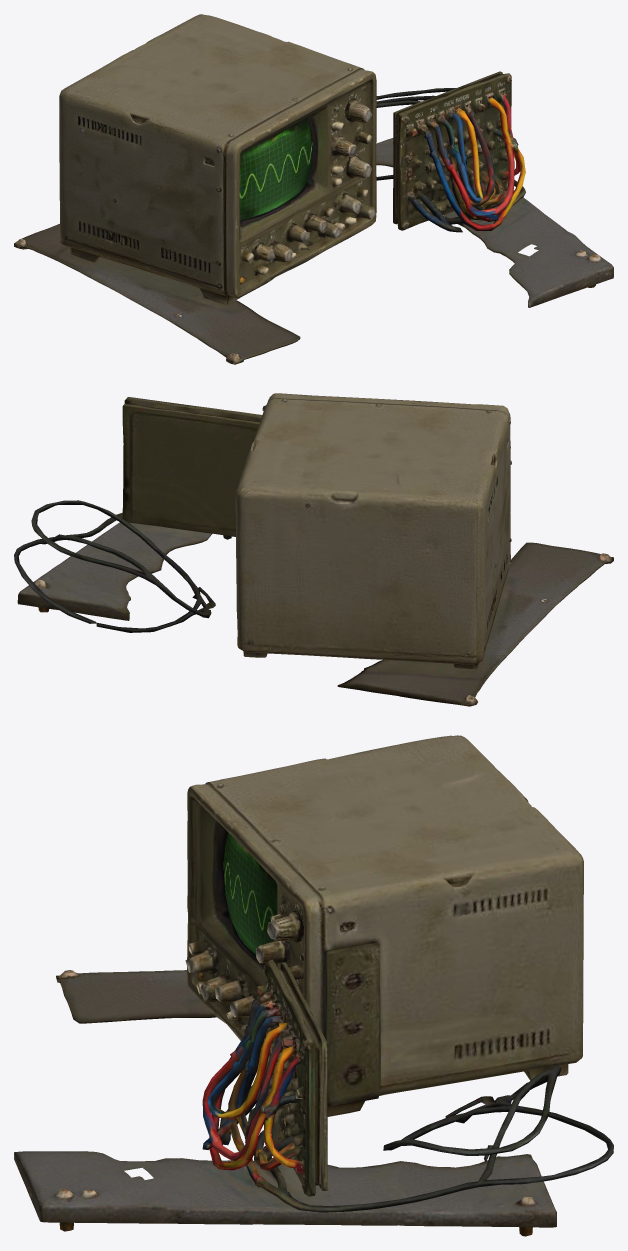
The model's file is prop_s2_oscilloscope_station.glb.
3 renders of one model, top to bottom at view 1: azimuth 30°, elevation 25°; view 2: azimuth 150°, elevation 25°; view 3: azimuth 270°, elevation 25°, orthographic. The views are drawn at different scales.
Visible parts, largest first — view 1: tripo_node_72c924b8-5213-47a4-a946-197d4e1be700; view 2: tripo_node_72c924b8-5213-47a4-a946-197d4e1be700; view 3: tripo_node_72c924b8-5213-47a4-a946-197d4e1be700.
Part boxes in pixels (x1,y1,x2,y2): tripo_node_72c924b8-5213-47a4-a946-197d4e1be700: [14, 14, 613, 364]; tripo_node_72c924b8-5213-47a4-a946-197d4e1be700: [14, 393, 613, 706]; tripo_node_72c924b8-5213-47a4-a946-197d4e1be700: [14, 735, 613, 1236].
Size of the model in its own units: 0.9144 by 0.3672 by 0.8025.
Materials: 1 (1 with a texture image).
